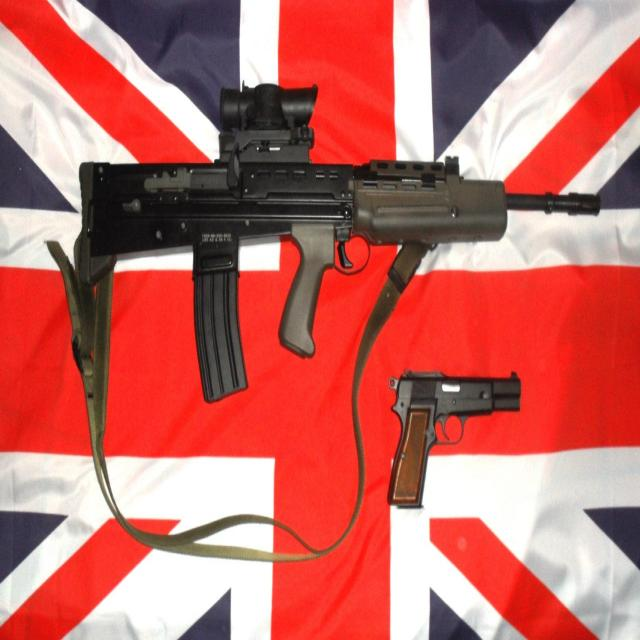firearm: (79, 81, 600, 404)
pistol: (386, 369, 521, 512)
